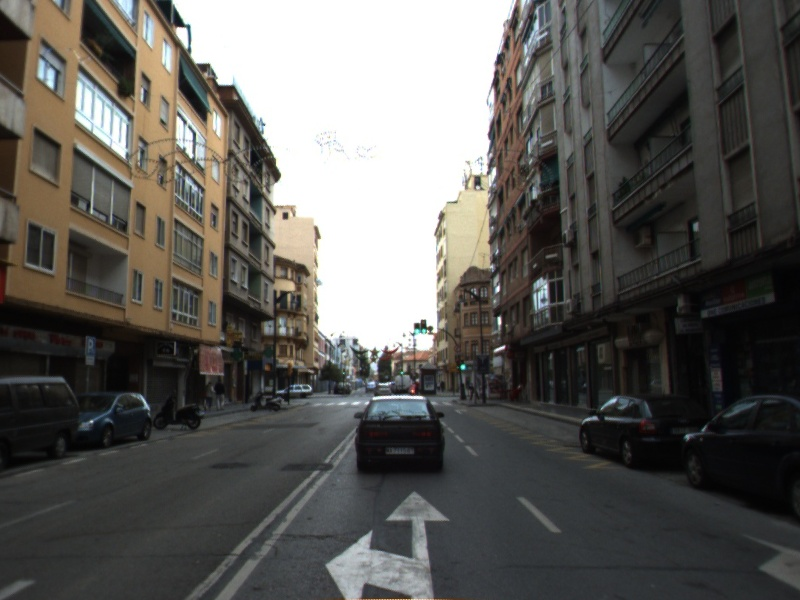RIGHT: (453, 407, 469, 416)
STRAIGHT_LEFT: (323, 489, 451, 600)
